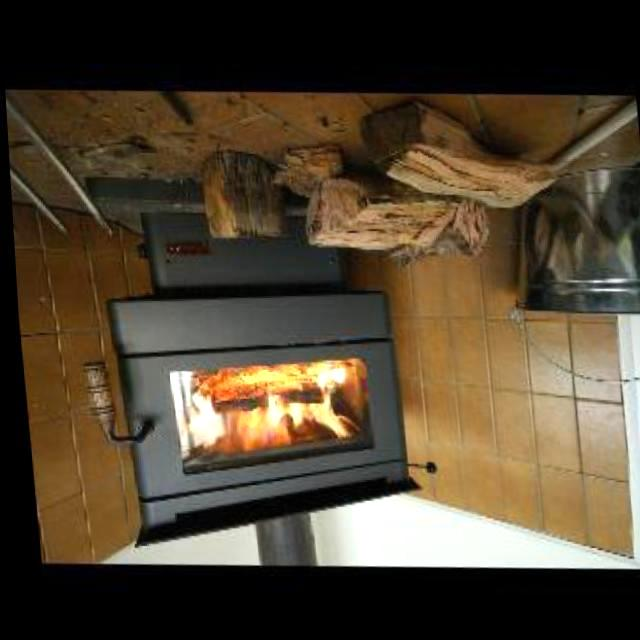fire: (186, 357, 366, 453)
